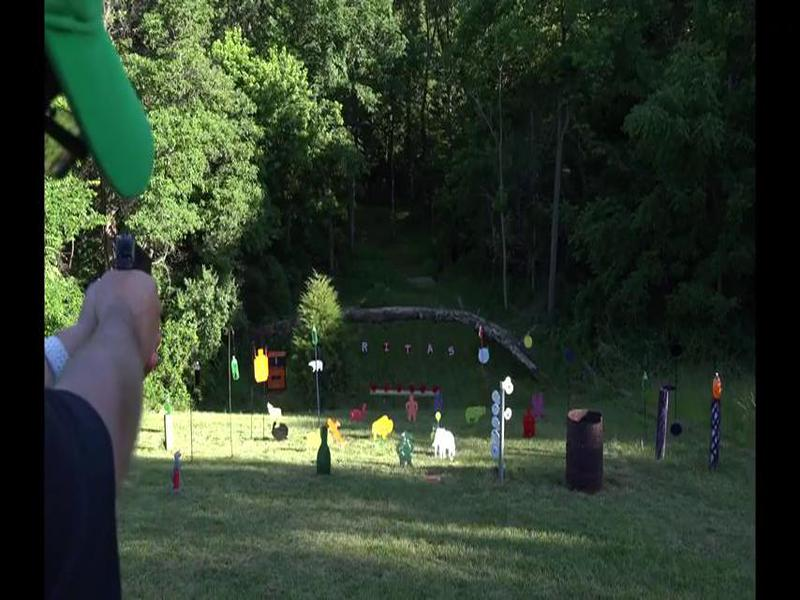Pistola: (95, 230, 176, 314)
